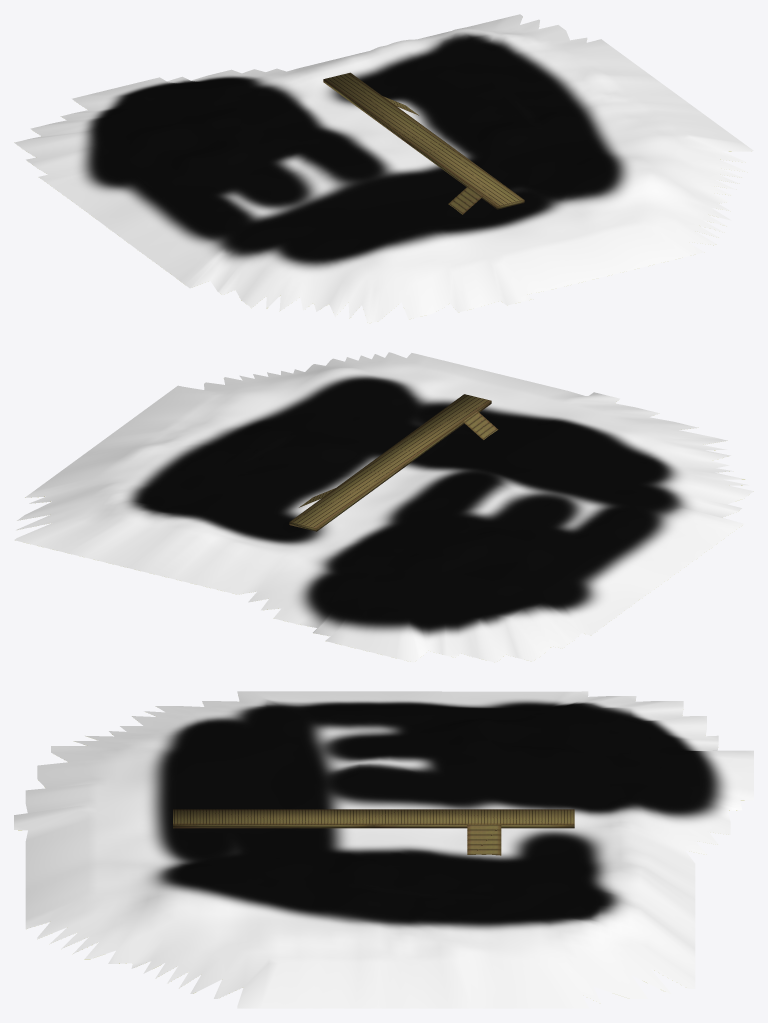
File: map_50.fbx
3 views of the same model, one above another, from view 1: azimuth 30°, elevation 25°; view 2: azimuth 150°, elevation 25°; view 3: azimuth 270°, elevation 25° (orthographic). The views are drawn at different scales.
Visible parts, largest first — view 1: Plane.001; view 2: Plane.001; view 3: Plane.001.
Boxes of the visible parts, x1,y1,x2,y2 form: Plane.001: [14, 14, 753, 323]; Plane.001: [14, 352, 753, 662]; Plane.001: [14, 691, 753, 1008].
Bounding box in the file's own units: 150 × 8.62 × 147.
Materials: 9 (9 with a texture image).
